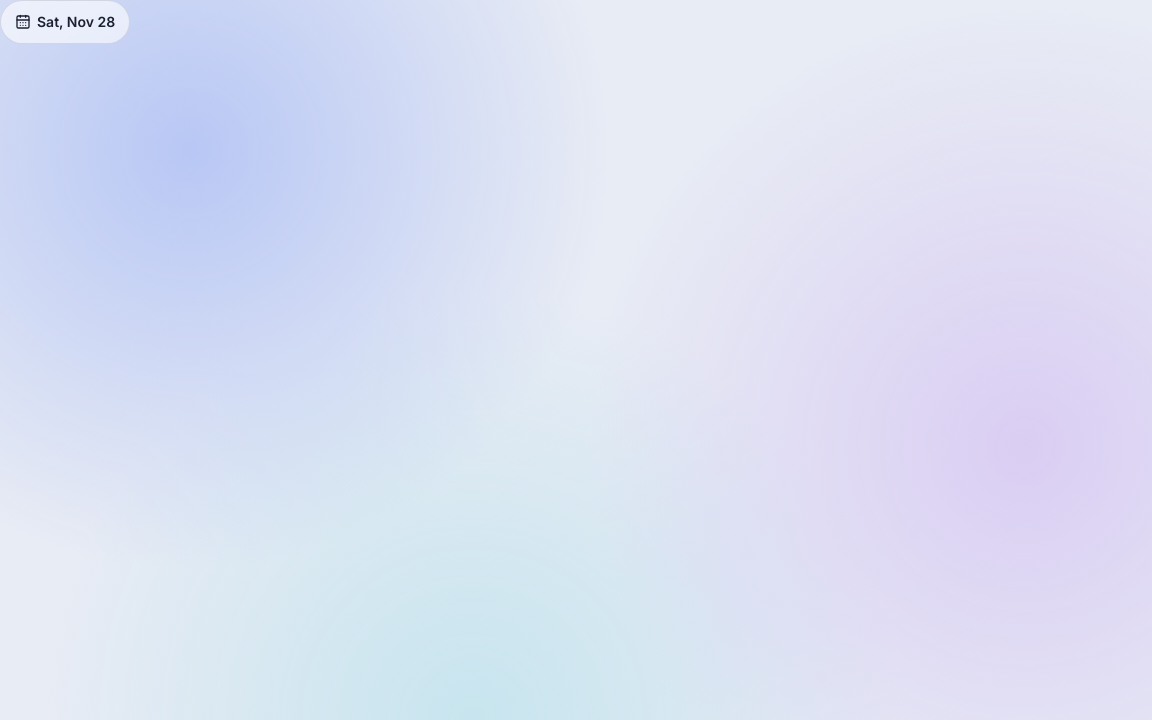
pastille Date : champ « Choisir… » › en anglais : « Sat, Nov 28, 2026 »
Click the button "Sat, Nov 28": point(65, 22) left=0, top=0, right=130, bottom=44
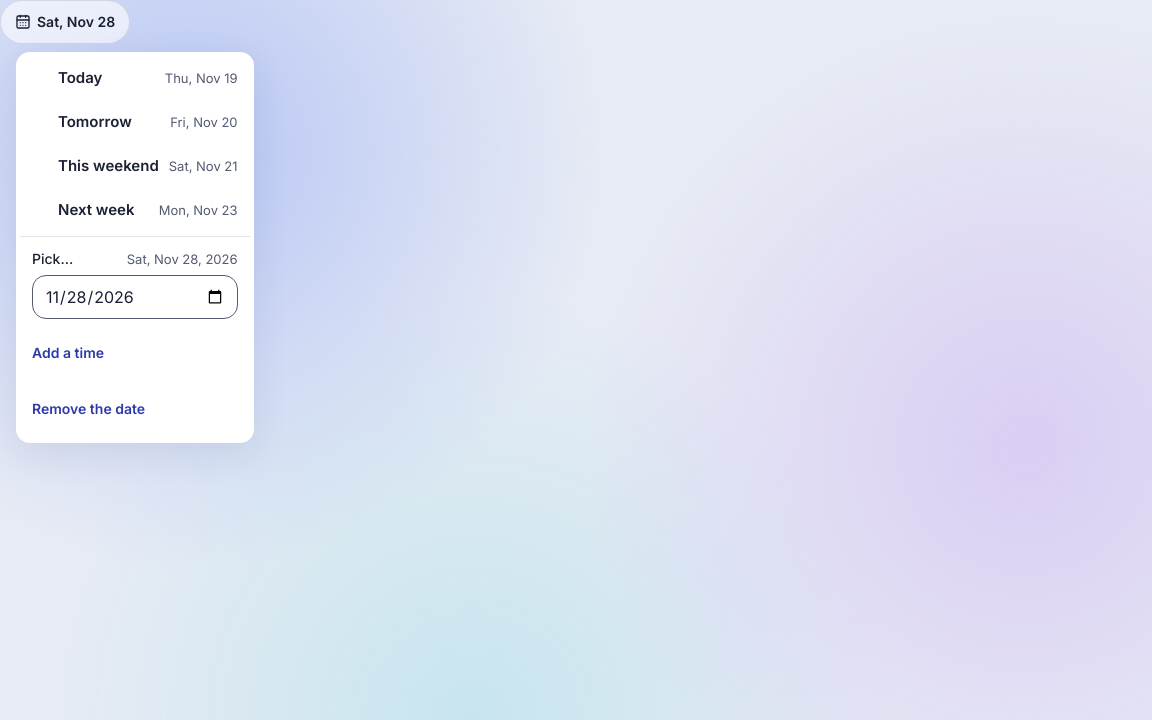
Now the date field labelled "Pick…" is shown, box left=32, top=275, right=238, bottom=319
Now the text "Sat, Nov 28, 2026" is shown, box left=127, top=250, right=238, bottom=268
